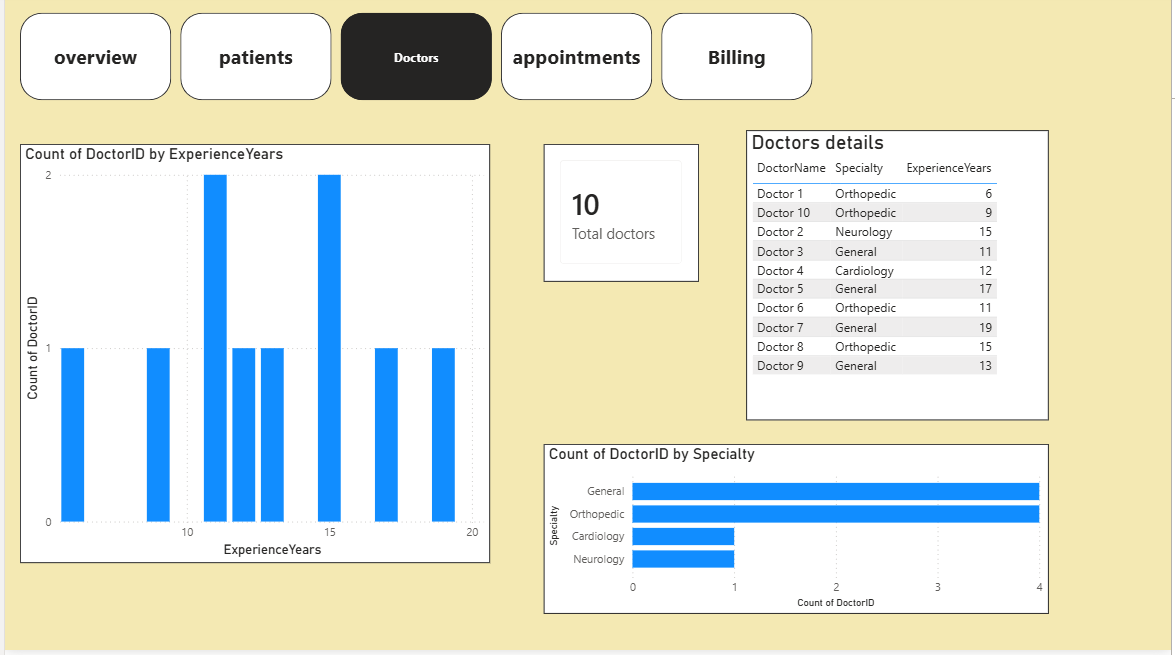

The page's visual inventory and layout, read from the dashboard file:
{"tool":"powerbi","page":{"name":"Doctors","canvas":[1280,720],"ordinal":2},"visuals":[{"type":"pageNavigator","box":[16.5,20.6,871.4,96.1],"z":0},{"type":"cardVisual","fields":{"Data":["Patients.Total doctors"]},"box":[591.4,164.7,170.2,150.9],"z":1000},{"type":"barChart","fields":{"Y":["CountNonNull(Doctors.DoctorID)"],"Category":["Doctors.Specialty"]},"box":[591.4,494,554.4,186.6],"z":2000},{"type":"columnChart","fields":{"Y":["CountNonNull(Doctors.DoctorID)"],"Category":["Doctors.ExperienceYears"]},"box":[16.5,164.7,516,459.7],"z":3000},{"type":"tableEx","title":"Doctors details","fields":{"Values":["Doctors.DoctorName","Doctors.Specialty","Doctors.ExperienceYears"]},"box":[813.7,149.6,332.1,318.4],"z":4000}]}

Visuals, with their boxes in screenshot pixels (x1, y1, x2, y2), scaled from the page's 1280x720 canvas onto the 1175x655 screenshot:
pageNavigator: box(15, 19, 815, 106)
cardVisual - Patients.Total doctors: box(543, 150, 699, 287)
barChart - CountNonNull(Doctors.DoctorID) x Doctors.Specialty: box(543, 449, 1052, 619)
columnChart - CountNonNull(Doctors.DoctorID) x Doctors.ExperienceYears: box(15, 150, 489, 568)
"Doctors details" tableEx: box(747, 136, 1052, 426)
